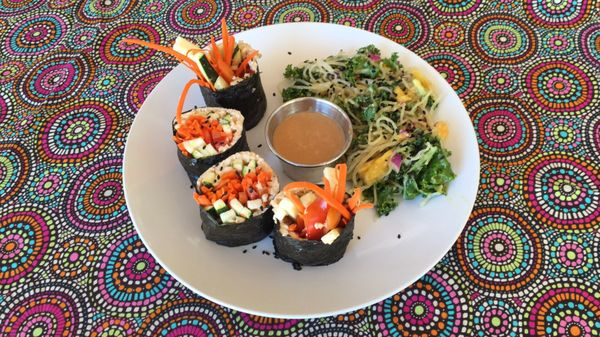sushi: (265, 96, 354, 184), (173, 107, 246, 181)
